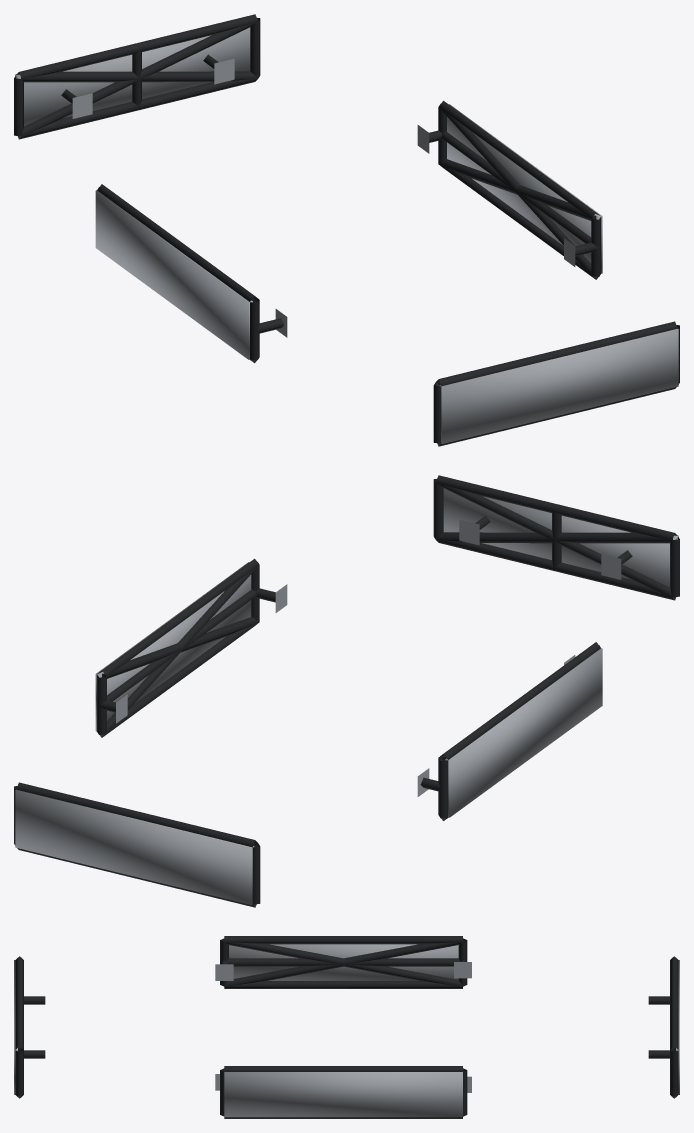
Rendered from tomoe_mirtilo_protecao.glb.
The picture shows the model from 3 angles, top to bottom: view 1: azimuth 30°, elevation 25°; view 2: azimuth 150°, elevation 25°; view 3: azimuth 270°, elevation 25°; orthographic projection. The views are drawn at different scales.
Parts seen in each view (by area): view 1: Protection_front_Level3_Details, Protection_left_Level3_Details, Protection_rear_Level1_Details, Protection_rear_Level3_Details, Protection_right_Level1_Details, Protection_rear_Level2_Details, Protection_right_Level2_Details, Protection_right_Level3_Details, Protection_front_Level1_Details, Protection_left_Level1_Details; view 2: Protection_rear_Level3_Details, Protection_left_Level3_Details, Protection_front_Level1_Details, Protection_front_Level3_Details, Protection_right_Level1_Details, Protection_front_Level2_Details, Protection_right_Level2_Details, Protection_right_Level3_Details, Protection_rear_Level1_Details, Protection_left_Level1_Details; view 3: Protection_right_Level3_Details, Protection_left_Level2_Details, Protection_left_Level1_Details, Protection_left_Level3_Details, Protection_right_Level1_Details, Protection_rear_Level1_Details, Protection_front_Level1_Details.
Boxes of the visible parts, x1,y1,x2,y2 form: Protection_front_Level3_Details: (439, 328, 678, 444); Protection_left_Level3_Details: (95, 190, 252, 359); Protection_rear_Level1_Details: (14, 14, 260, 139); Protection_rear_Level3_Details: (15, 27, 250, 126); Protection_right_Level1_Details: (417, 101, 601, 279); Protection_rear_Level2_Details: (16, 21, 257, 138); Protection_right_Level2_Details: (439, 107, 599, 279); Protection_right_Level3_Details: (447, 104, 602, 273); Protection_front_Level1_Details: (433, 321, 679, 446); Protection_left_Level1_Details: (97, 184, 287, 363); Protection_rear_Level3_Details: (15, 789, 254, 905); Protection_left_Level3_Details: (445, 648, 602, 817); Protection_front_Level1_Details: (433, 475, 679, 600); Protection_front_Level3_Details: (443, 488, 678, 587); Protection_right_Level1_Details: (97, 558, 287, 737); Protection_front_Level2_Details: (436, 482, 677, 599); Protection_right_Level2_Details: (97, 565, 259, 737); Protection_right_Level3_Details: (95, 562, 251, 731); Protection_rear_Level1_Details: (14, 782, 260, 907); Protection_left_Level1_Details: (417, 642, 600, 820); Protection_right_Level3_Details: (224, 1072, 462, 1117); Protection_left_Level2_Details: (224, 940, 463, 986); Protection_left_Level1_Details: (215, 936, 471, 988); Protection_left_Level3_Details: (229, 944, 458, 980); Protection_right_Level1_Details: (215, 1066, 471, 1118); Protection_rear_Level1_Details: (648, 956, 678, 1098); Protection_front_Level1_Details: (15, 956, 45, 1098).
Size of the model in its own units: 1.94 by 0.354 by 4.05.
1 material, 1 textured.
